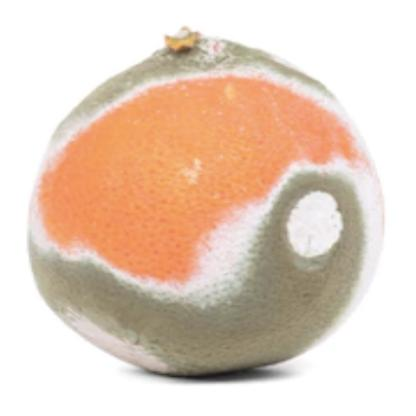rotten: (34, 31, 382, 380)
